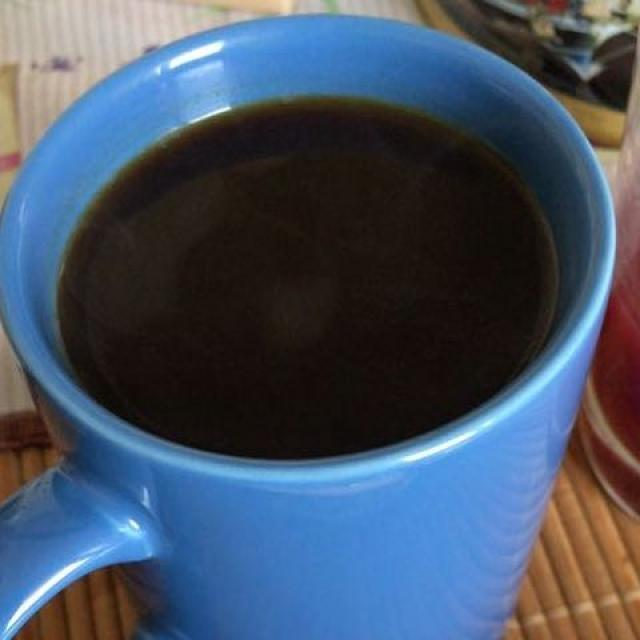coffee: (66, 99, 550, 446)
